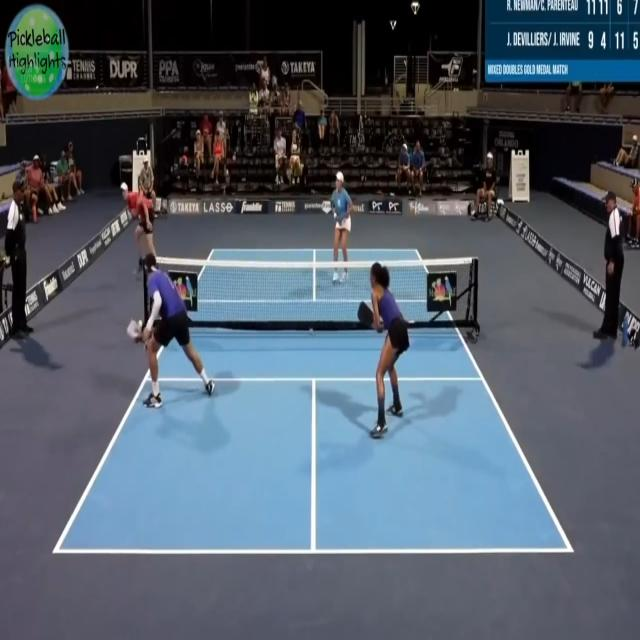Court: (55, 249, 571, 555)
